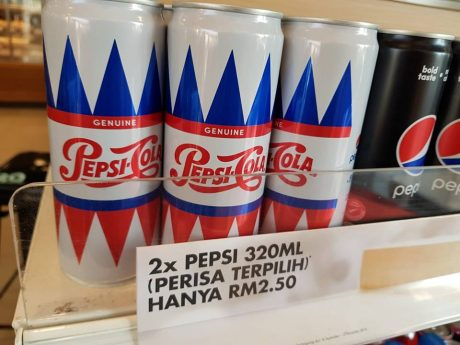pepsi: (396, 111, 436, 176), (399, 111, 436, 176), (434, 117, 458, 172)
